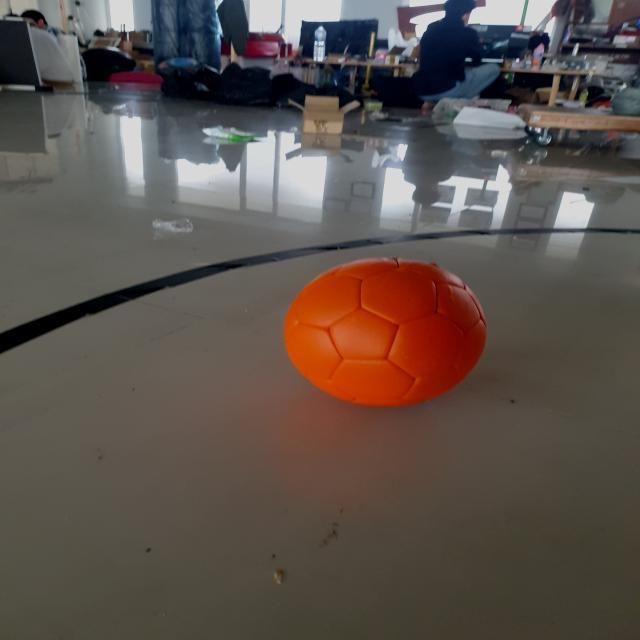bola: (276, 252, 495, 413)
